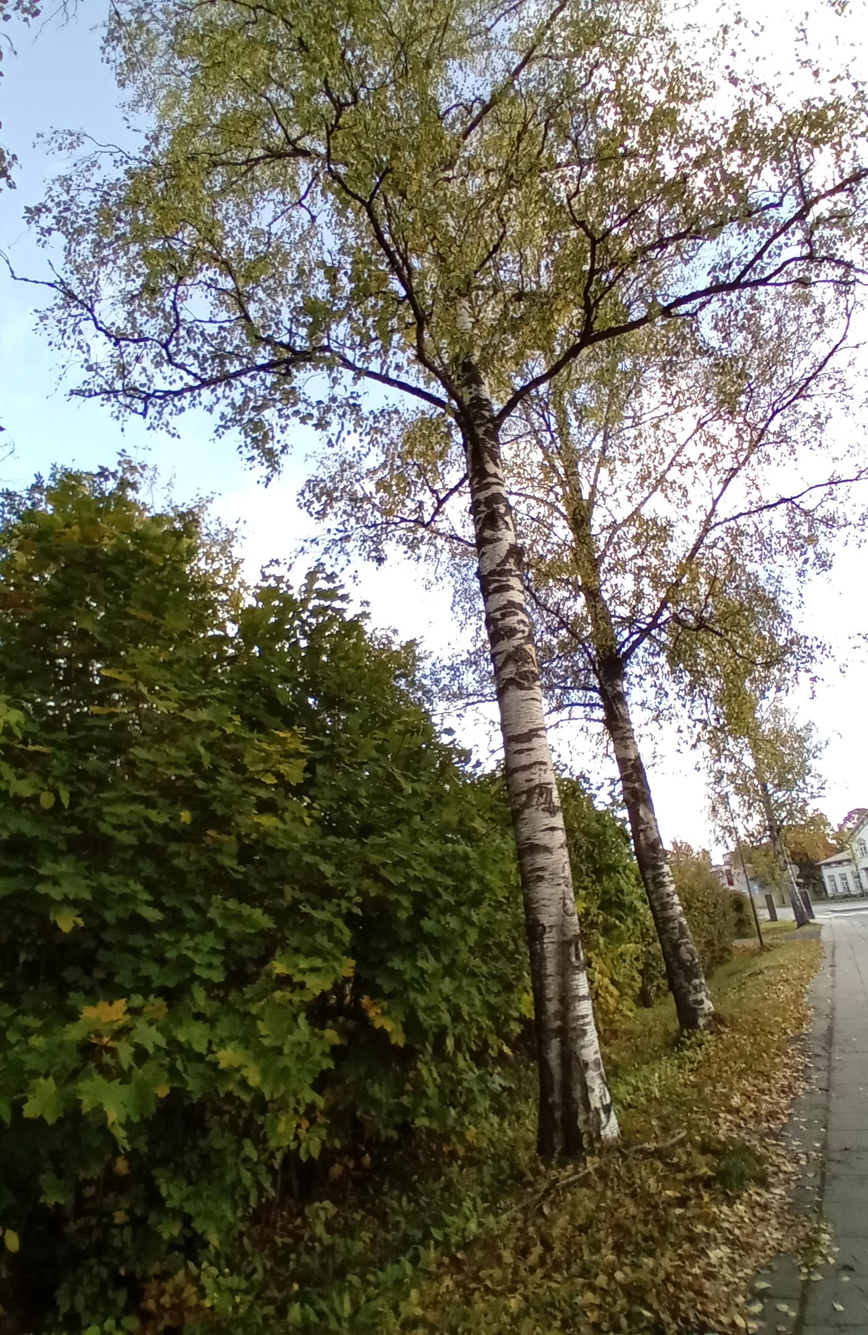Birch: (3, 1, 866, 1170), (138, 0, 768, 1134)
